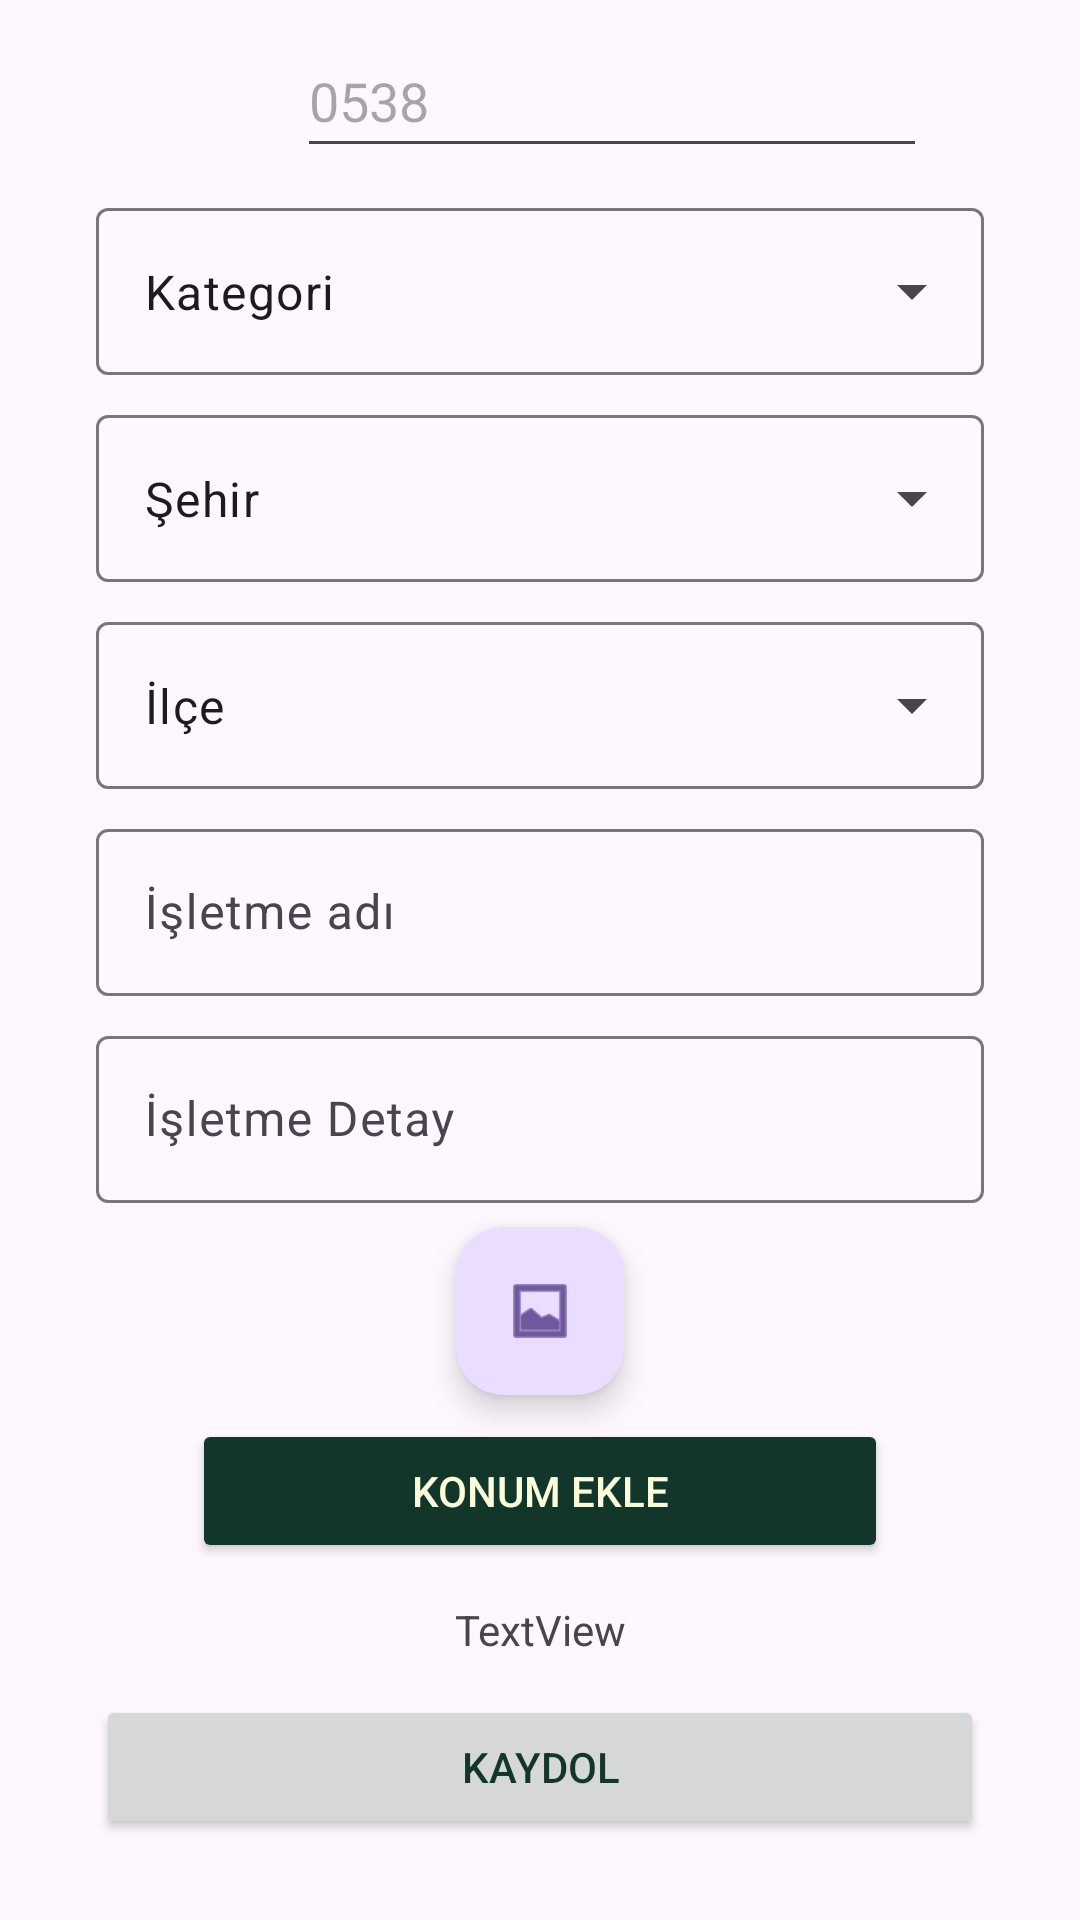

Named icons in this screenshot (1080 × 1920) and their bounding boxes, (x1, y1, x2, y2):
gallery: (456, 1227, 624, 1395)
